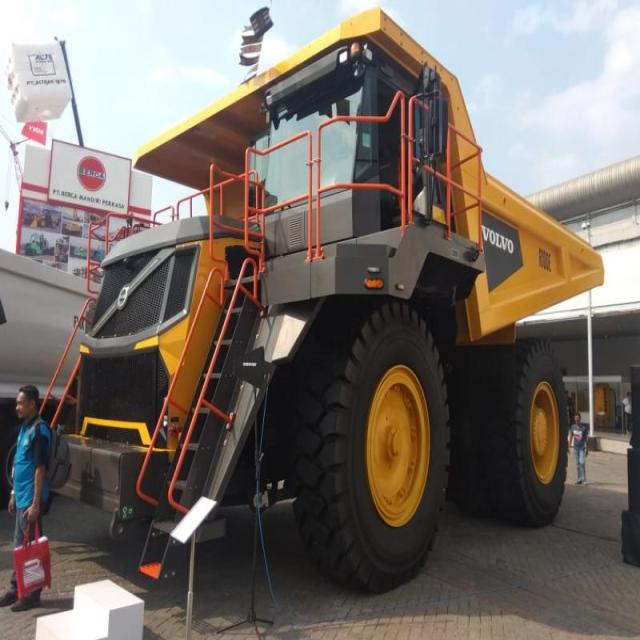dump_truck: (58, 36, 608, 577)
